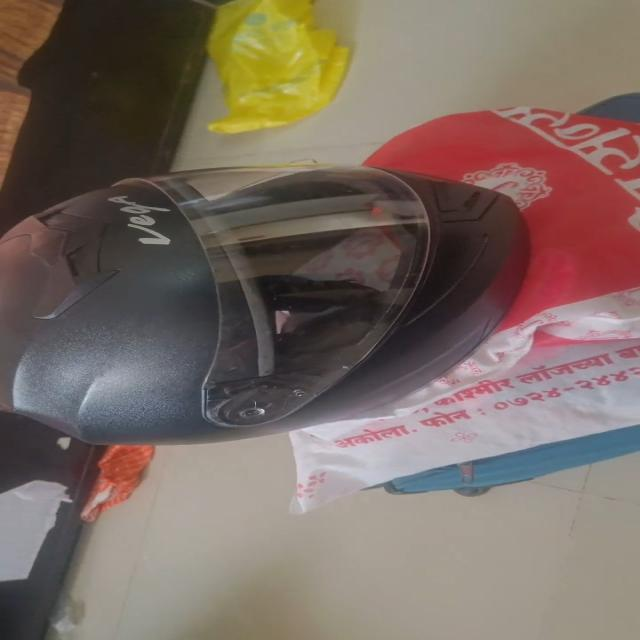Helmet: (0, 164, 525, 478)
